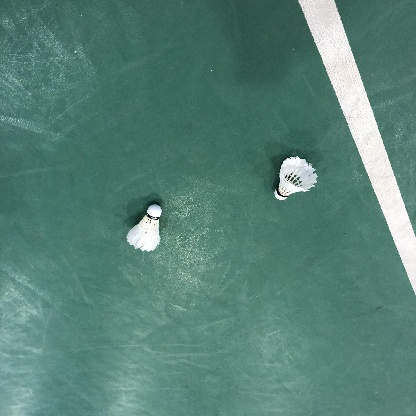ball_single: (274, 156, 318, 200), (126, 204, 162, 252)
